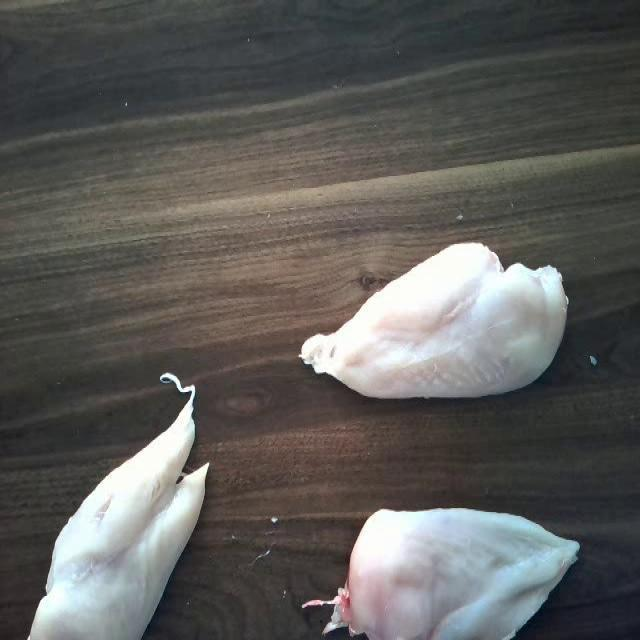breast: (294, 239, 564, 410), (43, 384, 199, 640), (328, 507, 576, 640)
